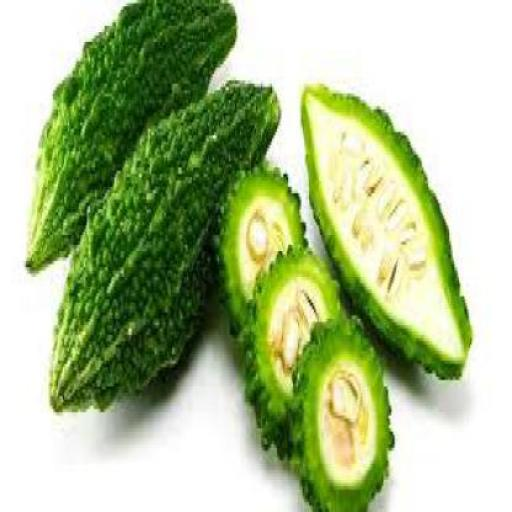biodegradable: (45, 74, 279, 412), (26, 0, 236, 267), (301, 80, 472, 384), (237, 238, 341, 464), (291, 316, 395, 509), (216, 168, 306, 328)
